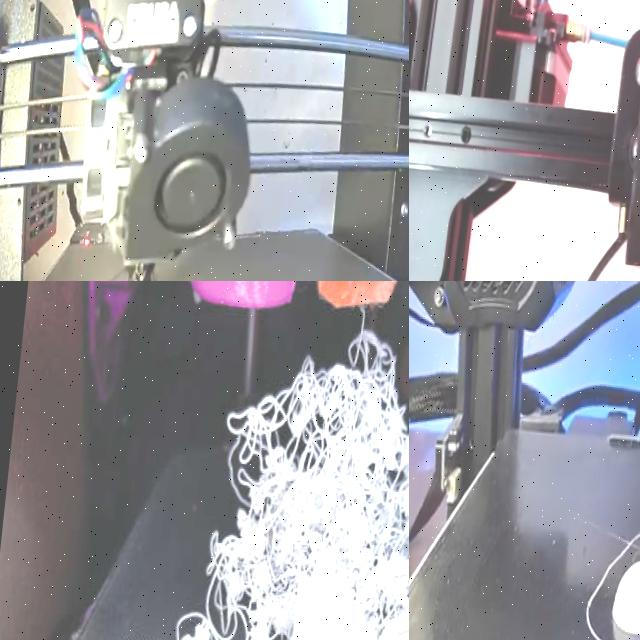spaghetti: (153, 303, 409, 640)
